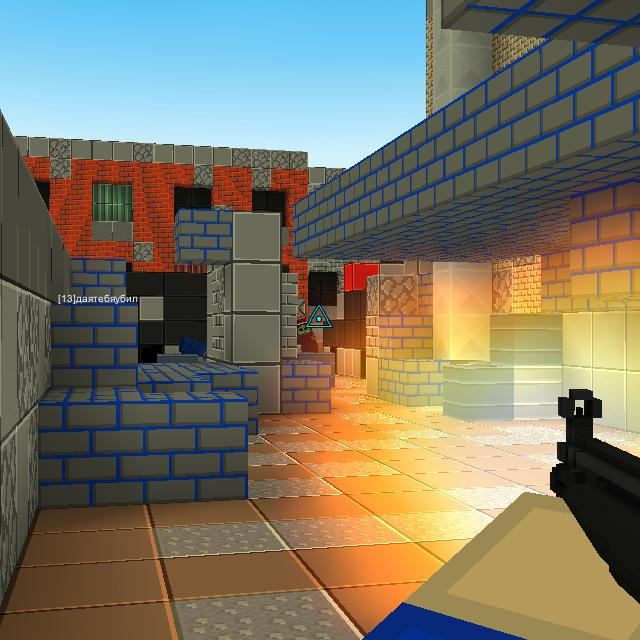enemy: (297, 299, 318, 352)
